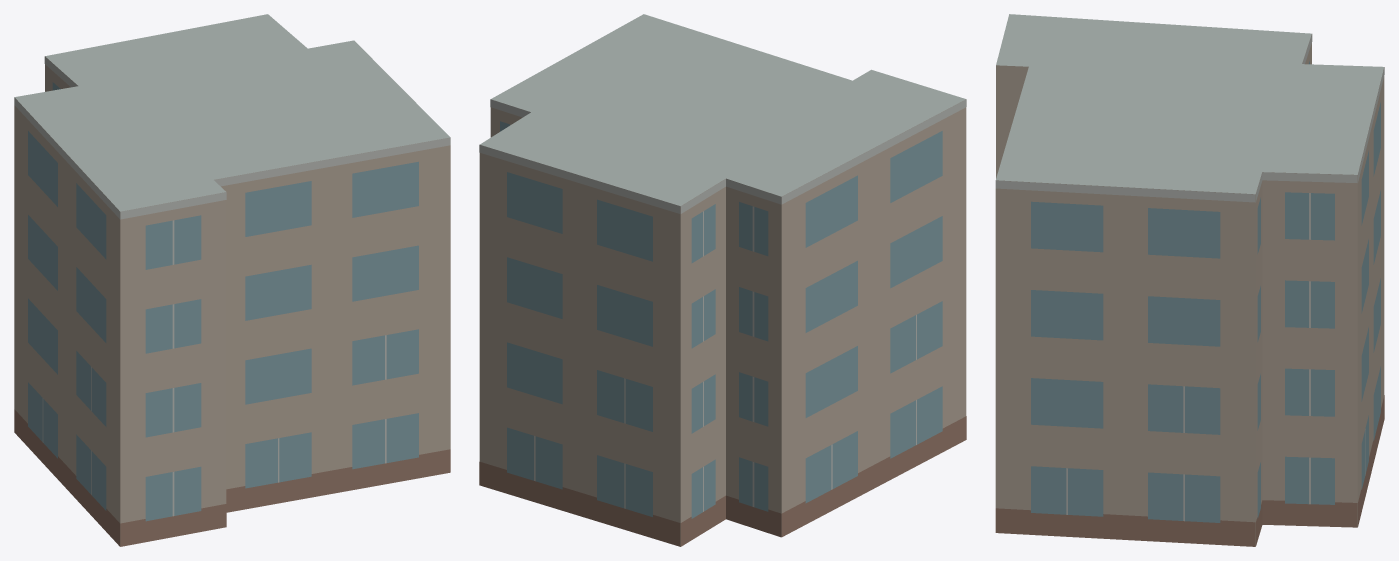
Rendered from survey-upis-32941335.glb.
3 renders of one model, left to right at view 1: azimuth 30°, elevation 25°; view 2: azimuth 150°, elevation 25°; view 3: azimuth 270°, elevation 25°, orthographic. The views are drawn at different scales.
Visible parts, largest first — view 1: survey-upis-32941335.tmp; view 2: survey-upis-32941335.tmp; view 3: survey-upis-32941335.tmp.
Part boxes in pixels (x1,y1,x2,y2): survey-upis-32941335.tmp: [14, 14, 450, 546]; survey-upis-32941335.tmp: [479, 14, 966, 546]; survey-upis-32941335.tmp: [995, 14, 1384, 546].
Bounding box in the file's own units: 11.41 × 10.4 × 10.4.
